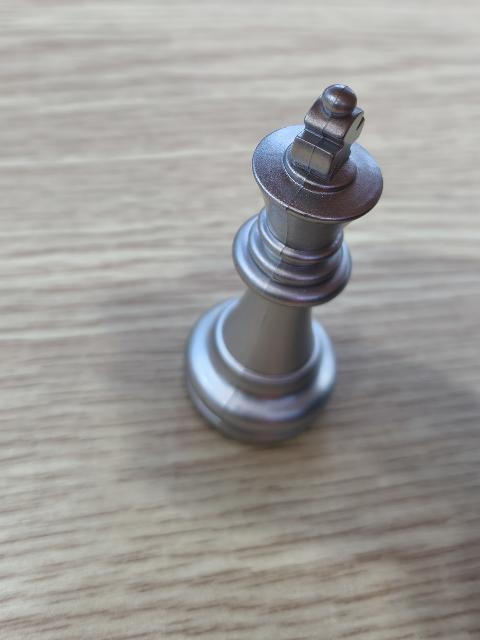white_king: (193, 82, 383, 443)
